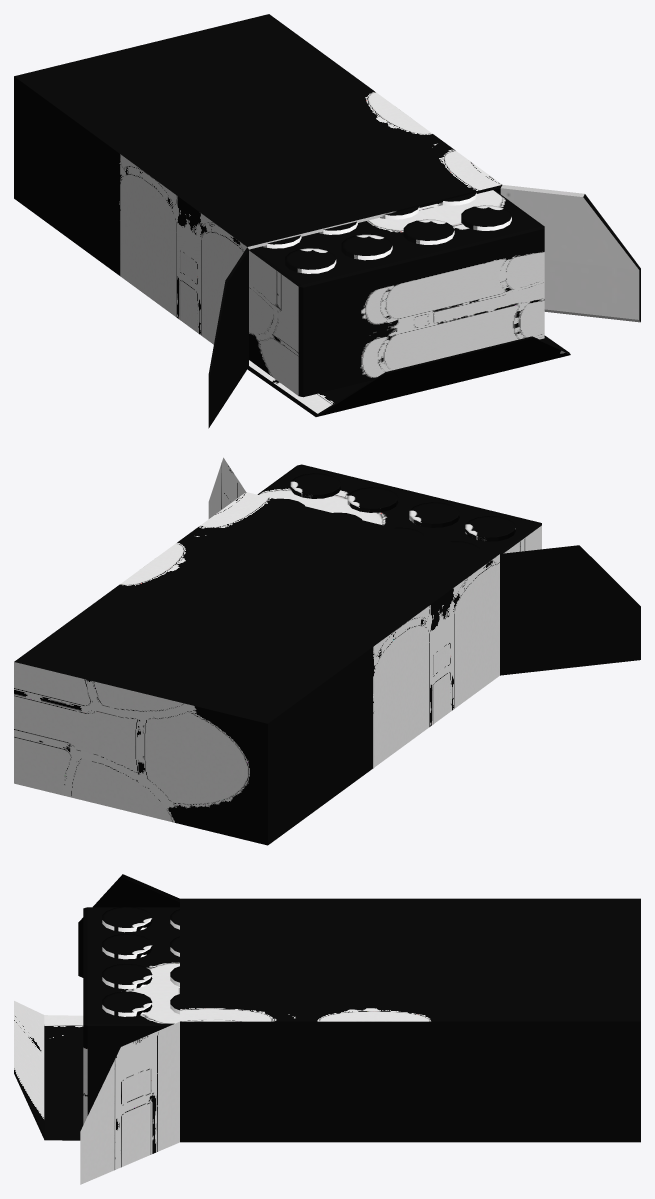
The model's file is Pistol Ammo.fbx.
3 views of the same model, one above another, from view 1: azimuth 30°, elevation 25°; view 2: azimuth 150°, elevation 25°; view 3: azimuth 270°, elevation 25° (orthographic).
Visible parts, largest first — view 1: box_0, ammo holder_1, ammo_2; view 2: box_0, ammo holder_1, ammo_2; view 3: box_0, ammo holder_1, ammo_2.
Boxes of the visible parts, <box> form: box_0: <box>14,14,640,428</box>; ammo holder_1: <box>249,189,544,397</box>; ammo_2: <box>263,192,511,273</box>; box_0: <box>14,457,640,845</box>; ammo holder_1: <box>257,464,541,553</box>; ammo_2: <box>276,473,515,548</box>; box_0: <box>14,874,640,1184</box>; ammo holder_1: <box>83,907,179,1124</box>; ammo_2: <box>102,906,179,1016</box>.
Bounding box in the file's own units: 97.41 × 26.26 × 124.
